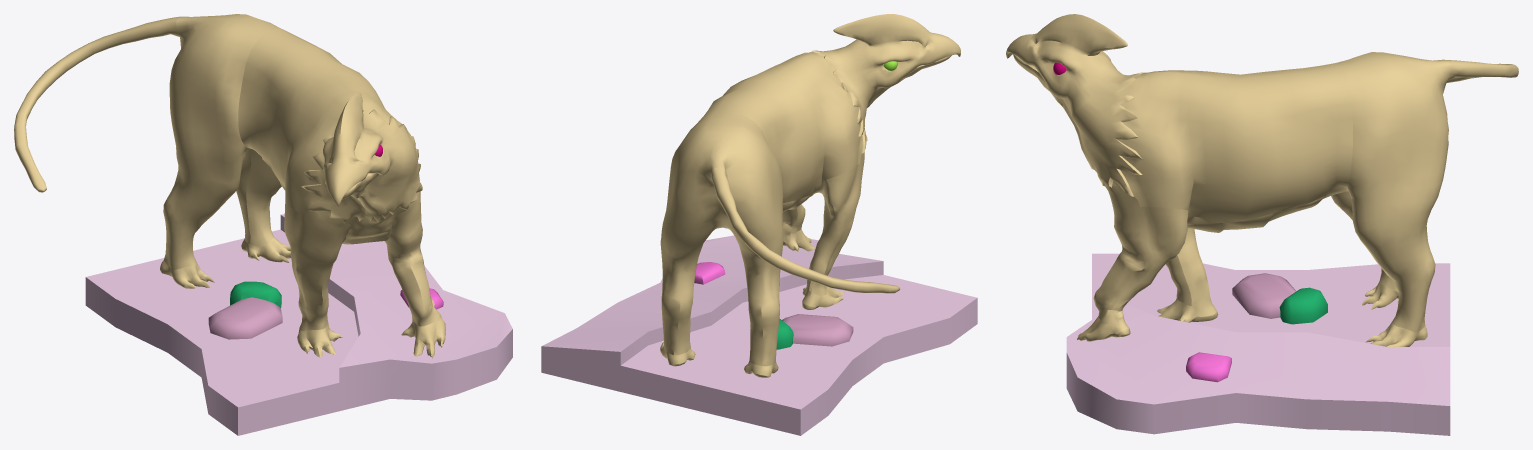
3 renders of one model, left to right at view 1: azimuth 30°, elevation 25°; view 2: azimuth 150°, elevation 25°; view 3: azimuth 270°, elevation 25°, orthographic. The views are drawn at different scales.
Visible parts, largest first — view 1: split_parent_0, StandLow__0, StandLow__0.009, StandLow__0.010; view 2: split_parent_0, StandLow__0, StandLow__0.009, StandLow__0.008; view 3: split_parent_0, StandLow__0, StandLow__0.009, StandLow__0.010, StandLow__0.008.
Boxes of the visible parts, left/top/right/bottom form: split_parent_0: left=14, top=14, right=445, bottom=358; StandLow__0: left=85, top=214, right=512, bottom=435; StandLow__0.009: left=208, top=297, right=282, bottom=339; StandLow__0.010: left=230, top=281, right=281, bottom=307; split_parent_0: left=660, top=14, right=960, bottom=377; StandLow__0: left=541, top=235, right=977, bottom=435; StandLow__0.009: left=782, top=314, right=853, bottom=346; StandLow__0.008: left=694, top=262, right=725, bottom=284; split_parent_0: left=1006, top=14, right=1518, bottom=346; StandLow__0: left=1066, top=253, right=1450, bottom=435; StandLow__0.009: left=1232, top=273, right=1296, bottom=318; StandLow__0.010: left=1279, top=287, right=1327, bottom=324; StandLow__0.008: left=1186, top=352, right=1231, bottom=382.
Bounding box in the file's own units: 0.8424 × 0.6893 × 1.
